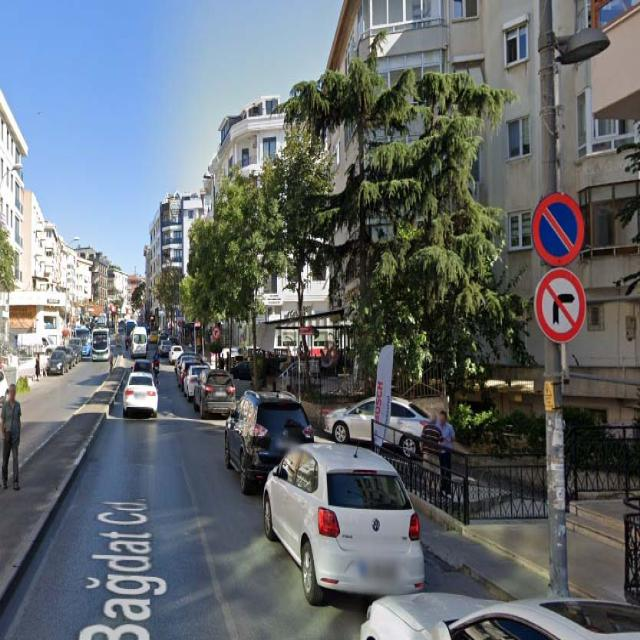parkyasak: (532, 193, 584, 268)
sagadonulmez: (534, 268, 586, 342)
